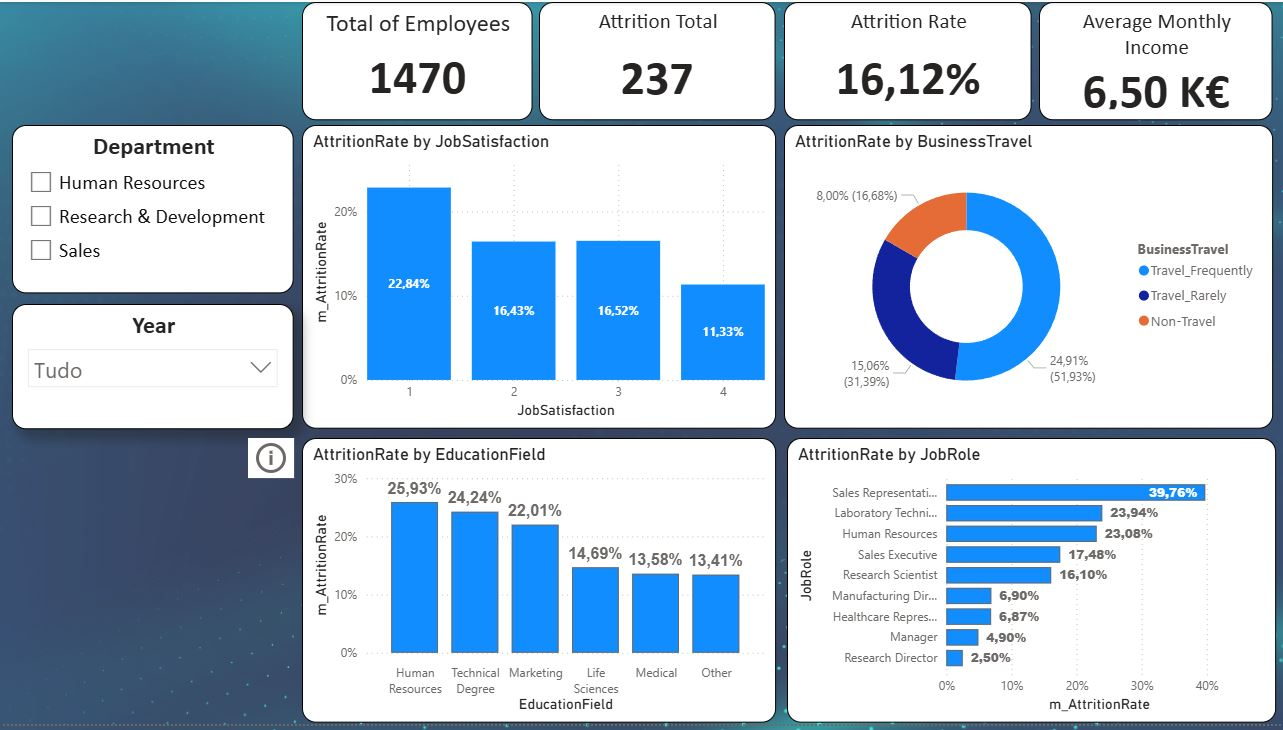

What the dashboard file says about the page in this screenshot:
{"tool":"powerbi","page":{"name":"TotalAttrition","canvas":[1280,720],"ordinal":0},"visuals":[{"type":"columnChart","title":"AttritionRate by EducationField","fields":{"Y":["MeasureKey.AttritionRate"],"Category":["DimEmployee.EducationField"]},"box":[301.4,435.4,472.7,284.2],"z":0},{"type":"barChart","title":"AttritionRate by JobRole","fields":{"Category":["DimJobRole.JobRole"],"Y":["MeasureKey.AttritionRate"]},"box":[785.1,435.4,487.8,284.2],"z":1000},{"type":"donutChart","title":"AttritionRate by BusinessTravel","fields":{"Category":["DimBusinessTravel.BusinessTravel"],"Y":["MeasureKey.AttritionRate"]},"box":[782.1,123,487.8,303.4],"z":2000},{"type":"columnChart","title":"AttritionRate by JobSatisfaction","fields":{"Category":["FactEmployee.JobSatisfaction"],"Y":["MeasureKey.AttritionRate"]},"box":[301.4,123,472.7,303.4],"z":3000},{"type":"card","title":"Total of Employees","fields":{"Values":["MeasureKey.TotalEmployee"]},"box":[300.8,0,230,118.5],"z":4000},{"type":"card","title":"Average Monthly Income","fields":{"Values":["MeasureKey.AverageMonthlyIncome"]},"box":[1036.1,0,233.5,118.5],"z":5000},{"type":"card","title":"Attrition Rate","fields":{"Values":["MeasureKey.AttritionRate"]},"box":[781.7,0,247.4,118.5],"z":6000},{"type":"card","title":"Attrition  Total","fields":{"Values":["MeasureKey.AttritionCount"]},"box":[537.8,0,235.8,118.5],"z":7000},{"type":"slicer","title":"Year","fields":{"Values":["DimDate.Year Hierarquia.Year"]},"box":[12.4,301.5,281.1,125],"z":8000},{"type":"slicer","title":"Department","fields":{"Values":["DimDepartment.Department"]},"box":[12.4,122.4,281.1,168.5],"z":9000},{"type":"actionButton","box":[247.4,435.4,46.1,39.9],"z":11000}]}

Visuals, with their boxes in screenshot pixels (x1, y1, x2, y2), scaled from the page's 1280x720 canvas onto the 1283x730 screenshot:
"AttritionRate by EducationField" columnChart: bbox=(302, 441, 776, 729)
"AttritionRate by JobRole" barChart: bbox=(787, 441, 1276, 729)
"AttritionRate by BusinessTravel" donutChart: bbox=(784, 125, 1273, 432)
"AttritionRate by JobSatisfaction" columnChart: bbox=(302, 125, 776, 432)
"Total of Employees" card: bbox=(302, 0, 532, 120)
"Average Monthly Income" card: bbox=(1039, 0, 1273, 120)
"Attrition Rate" card: bbox=(784, 0, 1032, 120)
"Attrition  Total" card: bbox=(539, 0, 775, 120)
"Year" slicer: bbox=(12, 306, 294, 432)
"Department" slicer: bbox=(12, 124, 294, 295)
actionButton: bbox=(248, 441, 294, 482)
